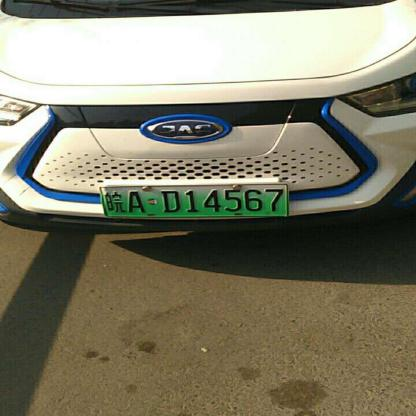lp: (100, 185, 289, 215)
